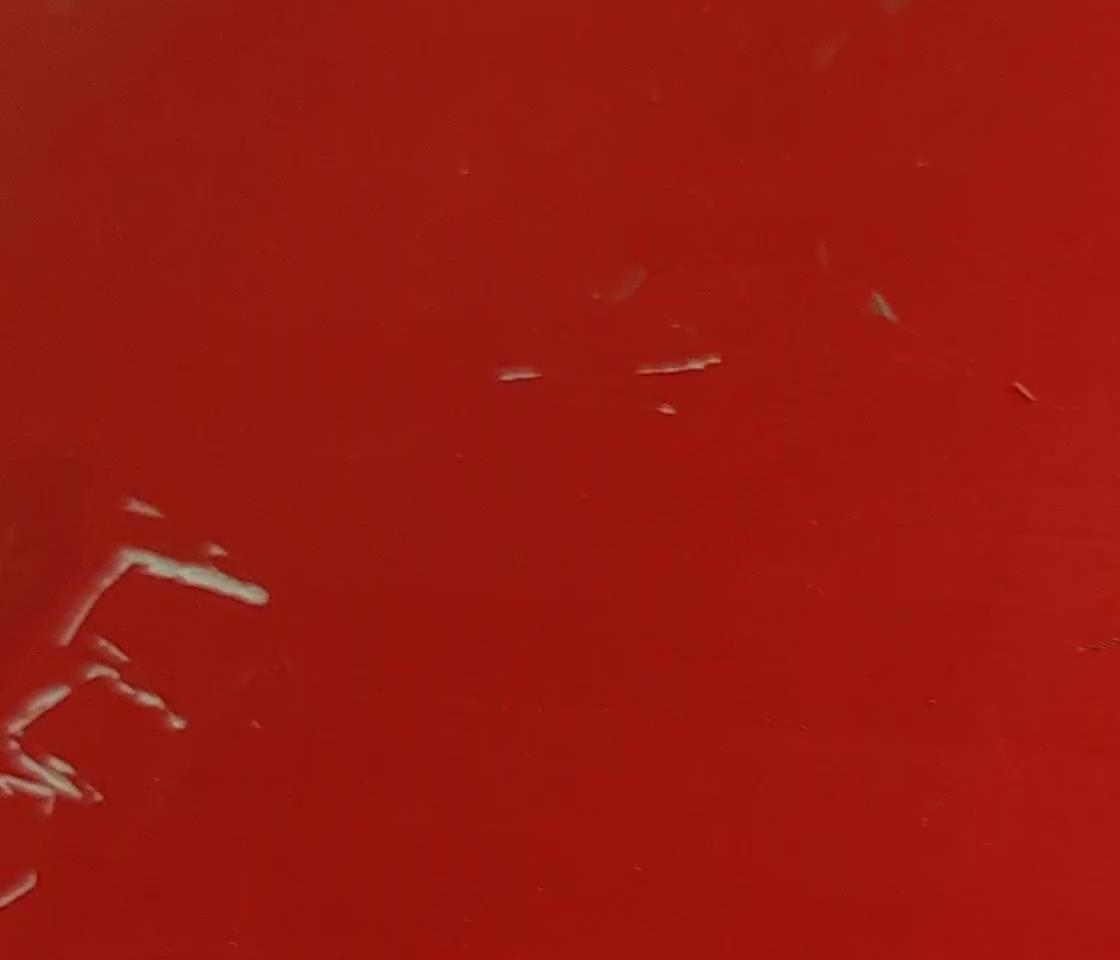scratch: (1, 661, 87, 827), (123, 537, 273, 618)
